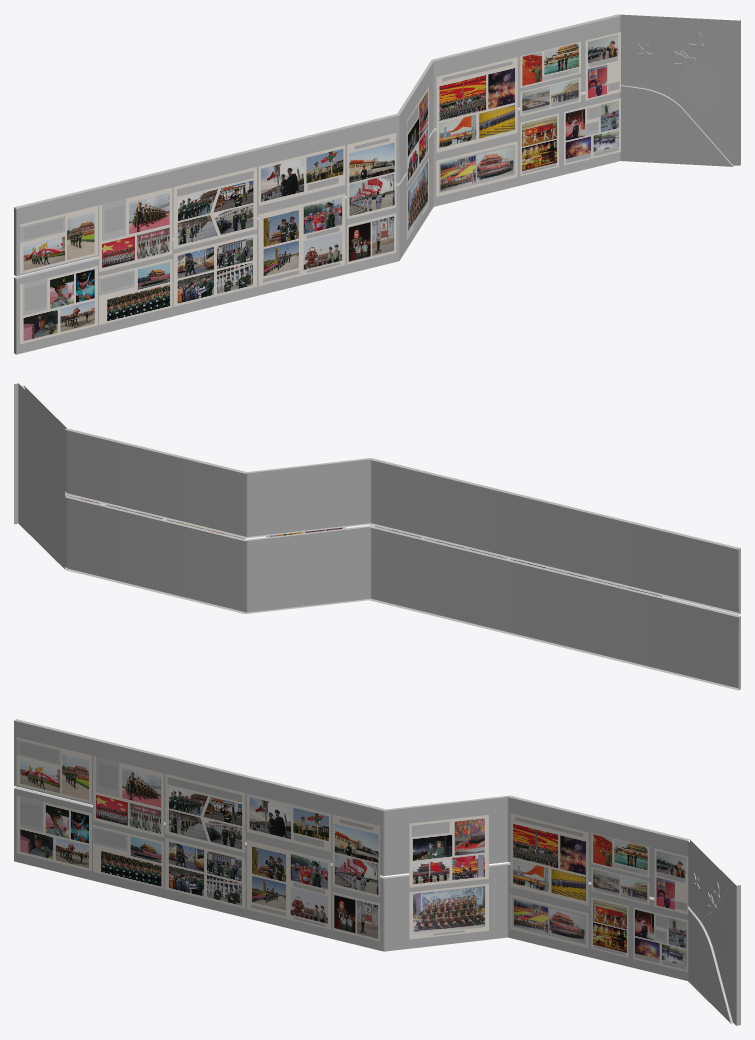
Rendered from 重大任务修改-1128.fbx.
The picture shows the model from 3 angles, top to bottom: view 1: azimuth 30°, elevation 25°; view 2: azimuth 150°, elevation 25°; view 3: azimuth 330°, elevation 25°; orthographic projection. The views are drawn at different scales.
Visible parts, largest first — view 1: ZDRW_Tu, polySurface5, polySurface4, ZDRW_Zi, zitiao; view 2: polySurface5, polySurface4, polySurface2, ZDRW_Tu; view 3: ZDRW_Tu, polySurface5, ZDRW_Zi, polySurface4, polySurface2, zitiao.
Boxes of the visible parts, x1,y1,x2,y2 form: ZDRW_Tu: [20, 32, 620, 344]; polySurface5: [14, 14, 733, 354]; polySurface4: [619, 14, 740, 165]; ZDRW_Zi: [23, 57, 619, 311]; zitiao: [684, 64, 729, 137]; polySurface5: [22, 385, 740, 690]; polySurface4: [18, 383, 65, 569]; polySurface2: [14, 383, 18, 524]; ZDRW_Tu: [67, 495, 661, 596]; ZDRW_Tu: [16, 737, 688, 972]; polySurface5: [14, 719, 733, 1023]; ZDRW_Zi: [20, 742, 686, 968]; polySurface4: [689, 840, 736, 1025]; polySurface2: [736, 885, 740, 1025]; zitiao: [714, 912, 732, 994].
Size of the model in its own units: 33.8 by 6.37 by 3.96.
